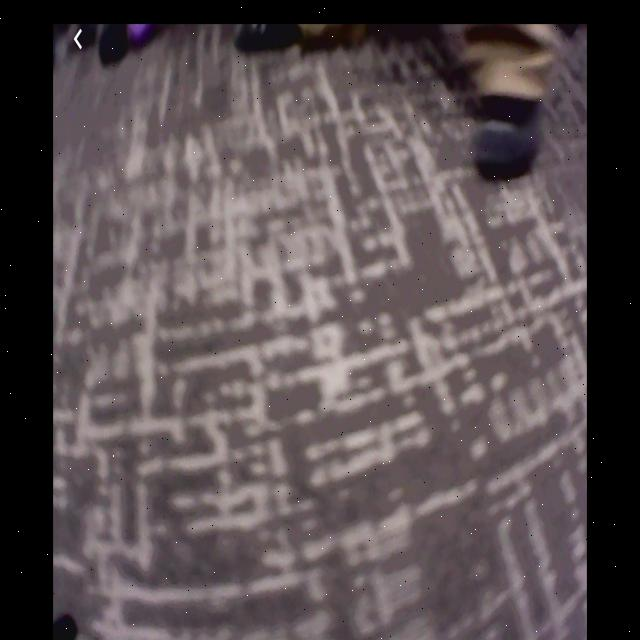ball: (129, 23, 153, 44)
